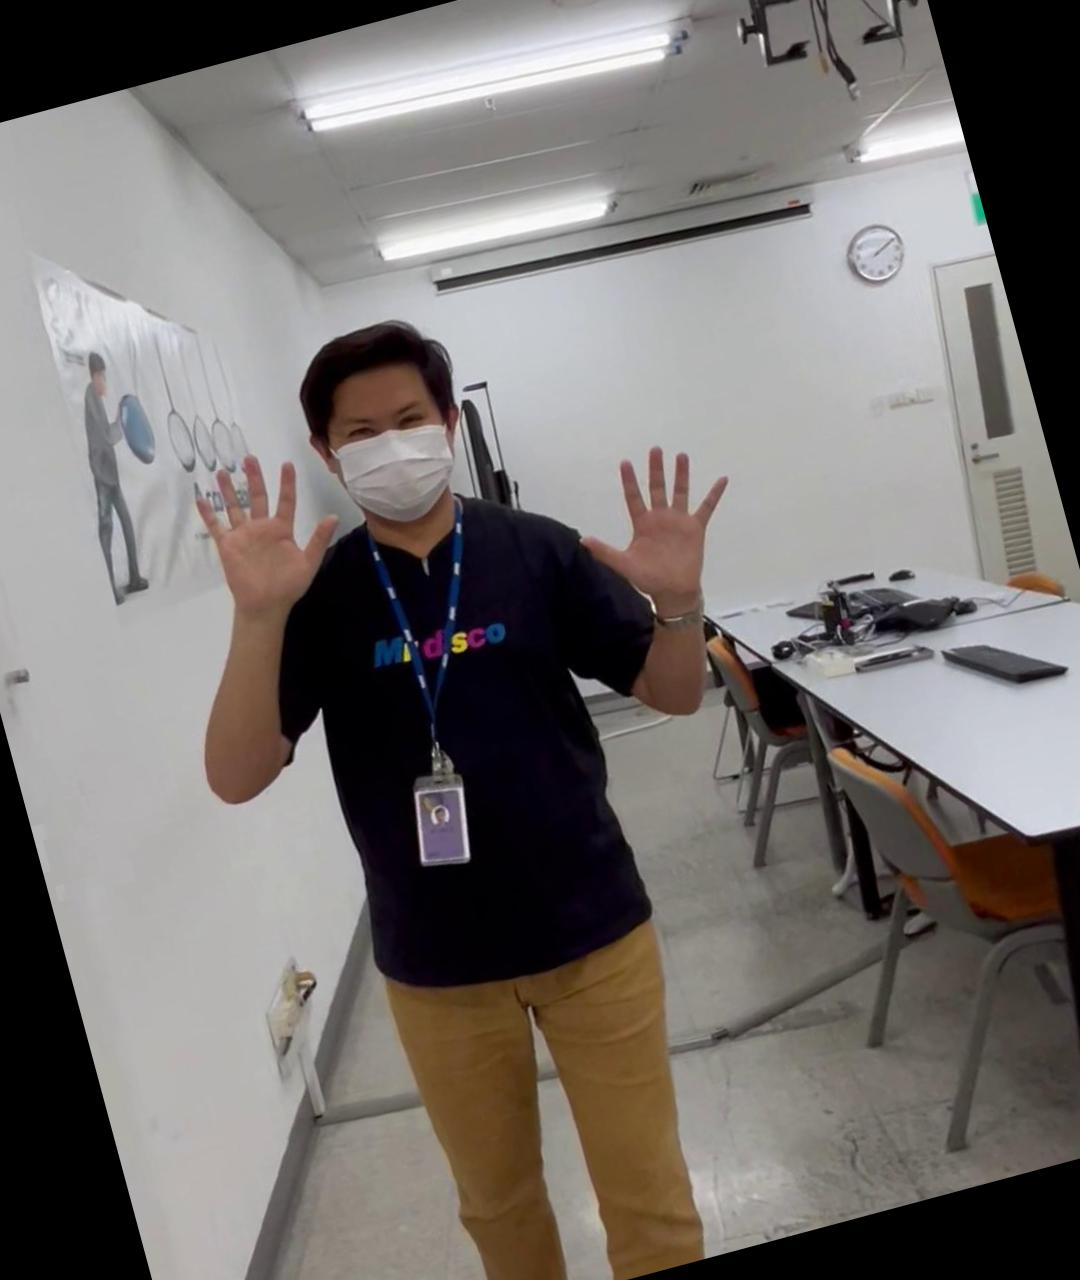No-gloves: (554, 422, 754, 617), (178, 428, 351, 617)
